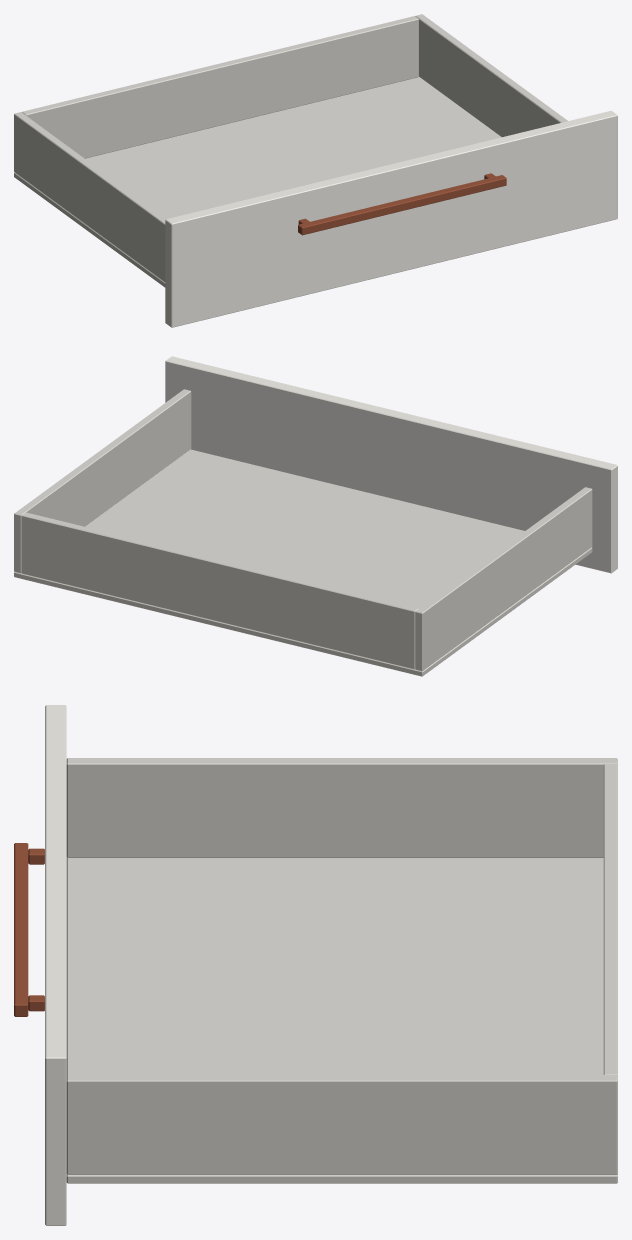
Rendered from kitchen_run_cabinets_long_b2_top_drawer.glb.
The picture shows the model from 3 angles, top to bottom: view 1: azimuth 30°, elevation 25°; view 2: azimuth 150°, elevation 25°; view 3: azimuth 270°, elevation 25°; orthographic projection. The views are drawn at different scales.
Visible parts, largest first — view 1: kitchen_run_cabinets_long_b2_top_drawer; view 2: kitchen_run_cabinets_long_b2_top_drawer; view 3: kitchen_run_cabinets_long_b2_top_drawer.
Boxes of the visible parts, bbox=[...] form: kitchen_run_cabinets_long_b2_top_drawer: bbox=[14, 14, 617, 327]; kitchen_run_cabinets_long_b2_top_drawer: bbox=[14, 356, 617, 676]; kitchen_run_cabinets_long_b2_top_drawer: bbox=[14, 705, 617, 1225].
Bounding box in the file's own units: 0.697 × 0.1554 × 0.504.
